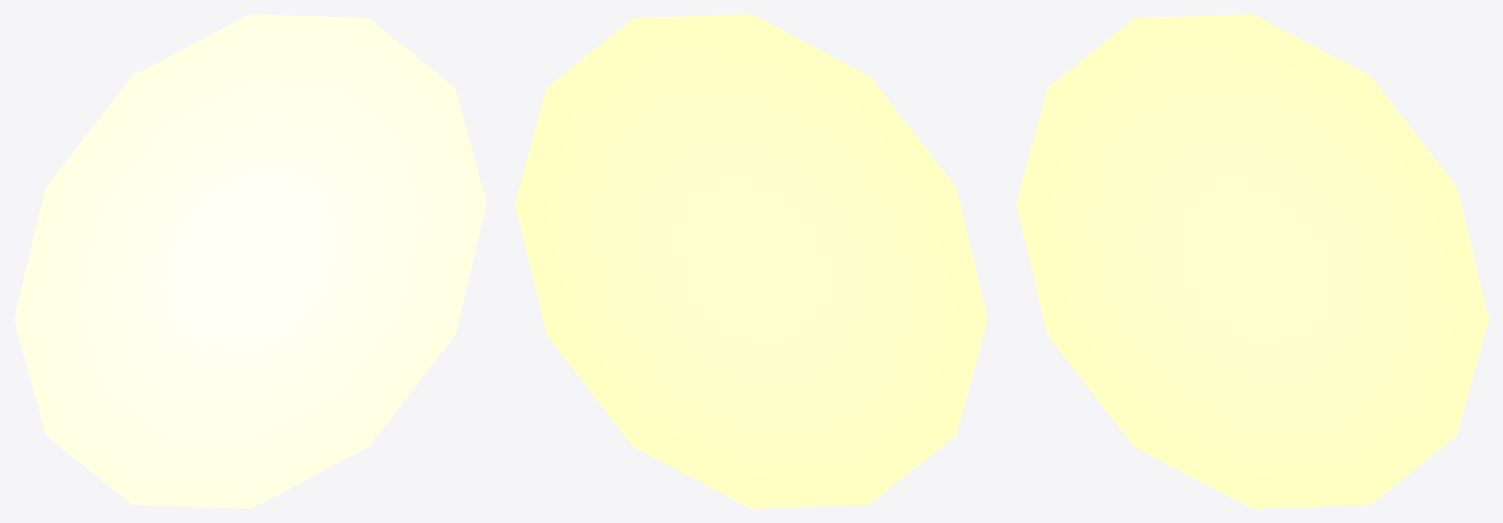
The model's file is firefly.glb.
The picture shows the model from 3 angles, left to right: view 1: azimuth 30°, elevation 25°; view 2: azimuth 150°, elevation 25°; view 3: azimuth 330°, elevation 25°; orthographic projection.
Visible parts, largest first — view 1: firefly; view 2: firefly; view 3: firefly.
Boxes of the visible parts, <box> form: firefly: <box>14,14,486,508</box>; firefly: <box>515,14,987,508</box>; firefly: <box>1016,14,1488,508</box>.
Bounding box in the file's own units: 0.25 × 0.25 × 0.
